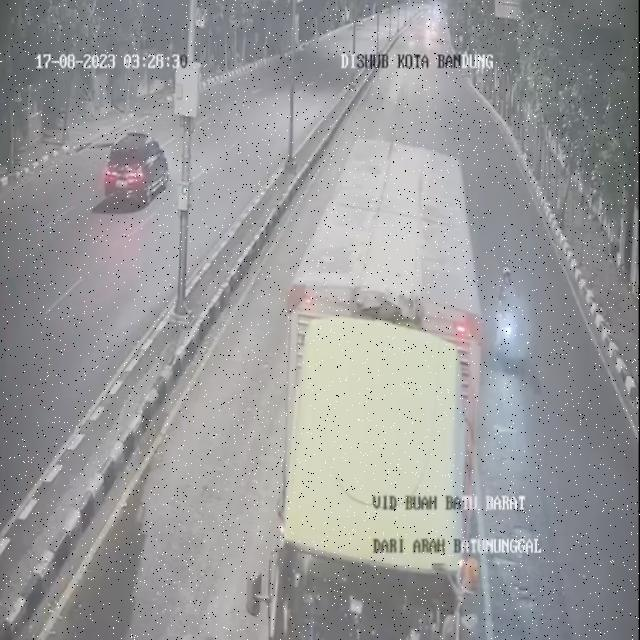motorcycle: (493, 256, 530, 364)
truck: (269, 124, 493, 640)
